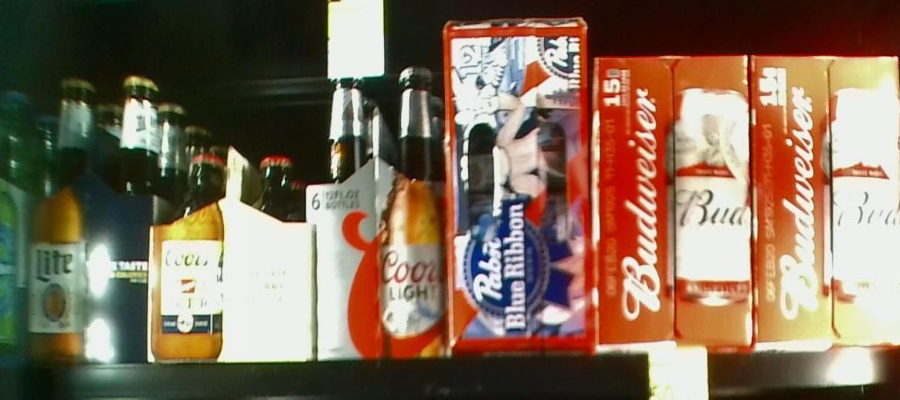bottle: (445, 19, 596, 353), (596, 57, 752, 351), (749, 57, 900, 346), (307, 65, 448, 361), (33, 71, 149, 357), (163, 152, 312, 354)
